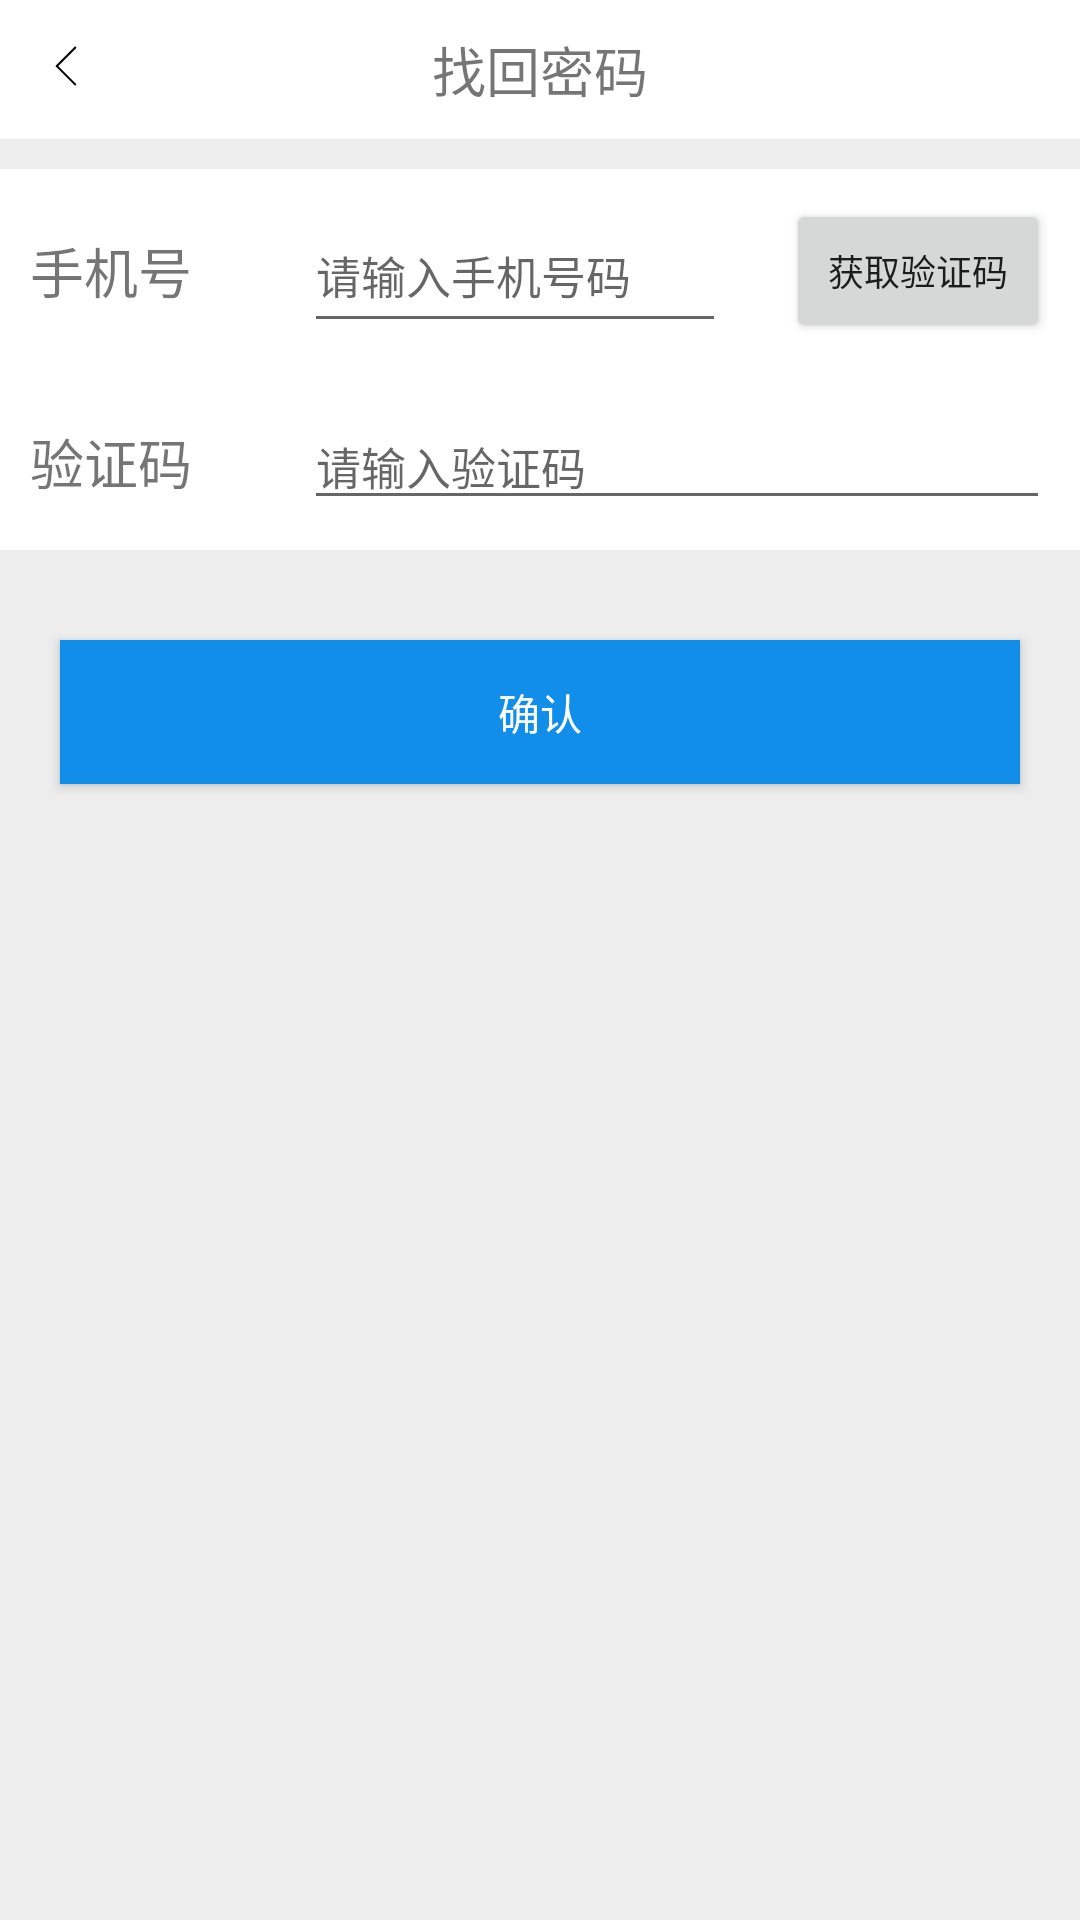

Named icons in this screenshot (1080 x 1920) and their centers, (x,y):
back: (66,66)
